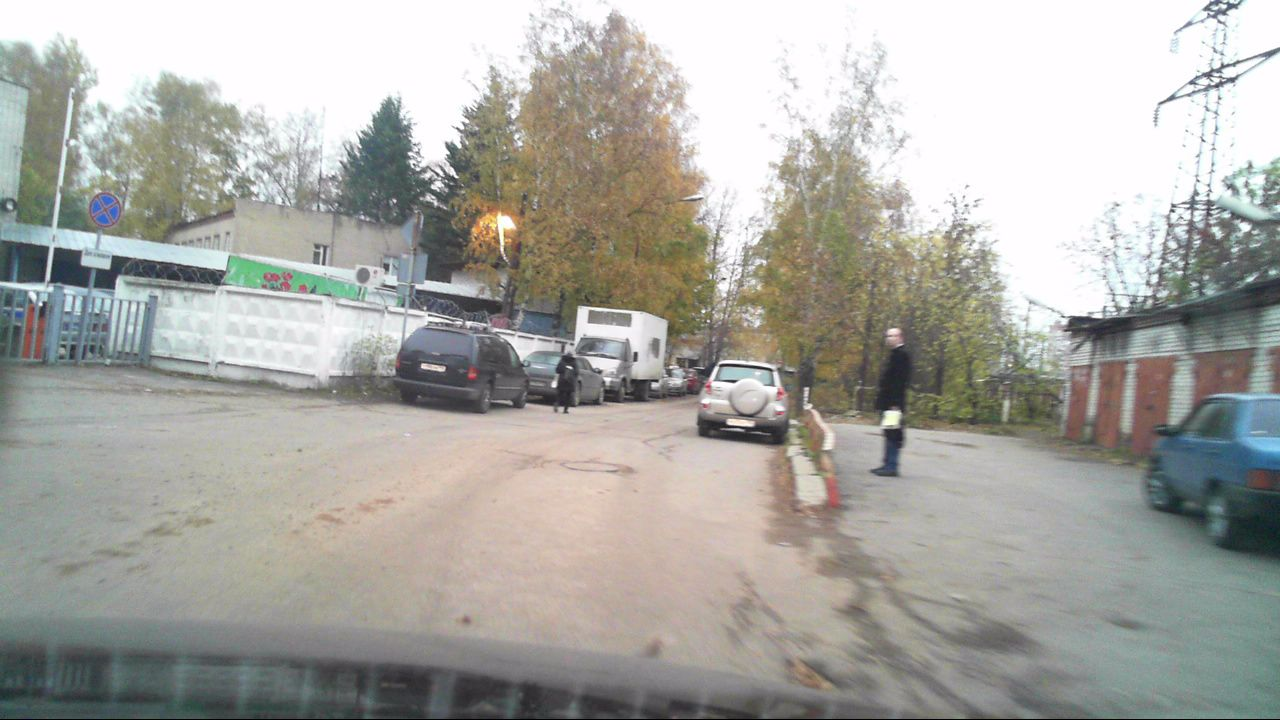No Parking: (89, 193, 124, 230)
